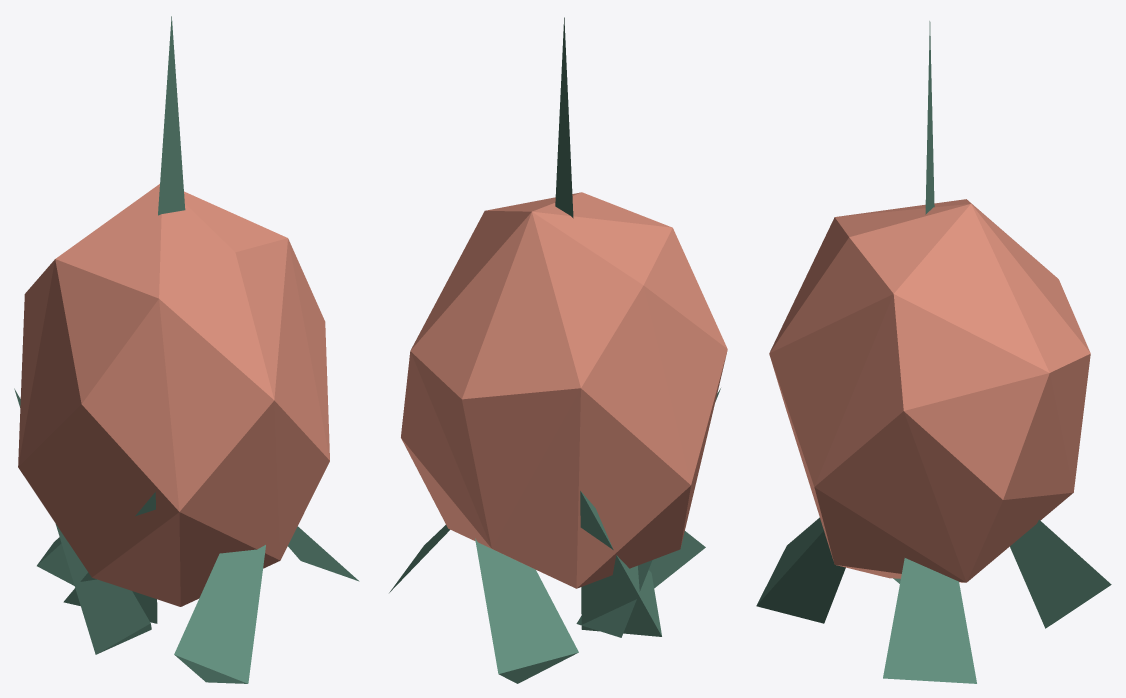
The model's file is Plant_04_LOD2.fbx.
3 views of the same model, side by side, from view 1: azimuth 30°, elevation 25°; view 2: azimuth 150°, elevation 25°; view 3: azimuth 270°, elevation 25° (orthographic).
Visible parts, largest first — view 1: Plant_04_LOD2; view 2: Plant_04_LOD2; view 3: Plant_04_LOD2.
Boxes of the visible parts, x1=… form: Plant_04_LOD2: x1=14, y1=16, x2=359, y2=683; Plant_04_LOD2: x1=389, y1=17, x2=727, y2=683; Plant_04_LOD2: x1=756, y1=21, x2=1111, y2=683.
Bounding box in the file's own units: 147 × 288 × 150.
